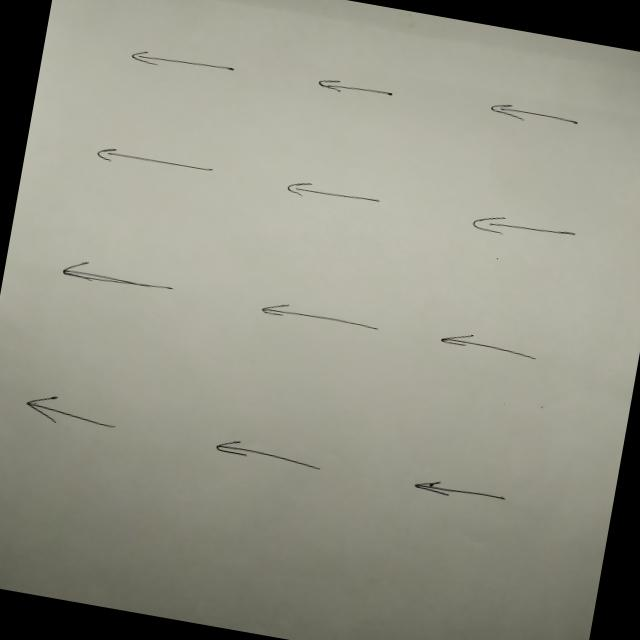arrow_line_left: (44, 248, 194, 310), (194, 426, 340, 482), (81, 132, 230, 186), (248, 290, 392, 343), (12, 386, 137, 442), (456, 201, 588, 253), (476, 92, 604, 142), (272, 170, 391, 220), (426, 323, 544, 372), (110, 38, 244, 80), (404, 469, 524, 514), (298, 66, 420, 110)
